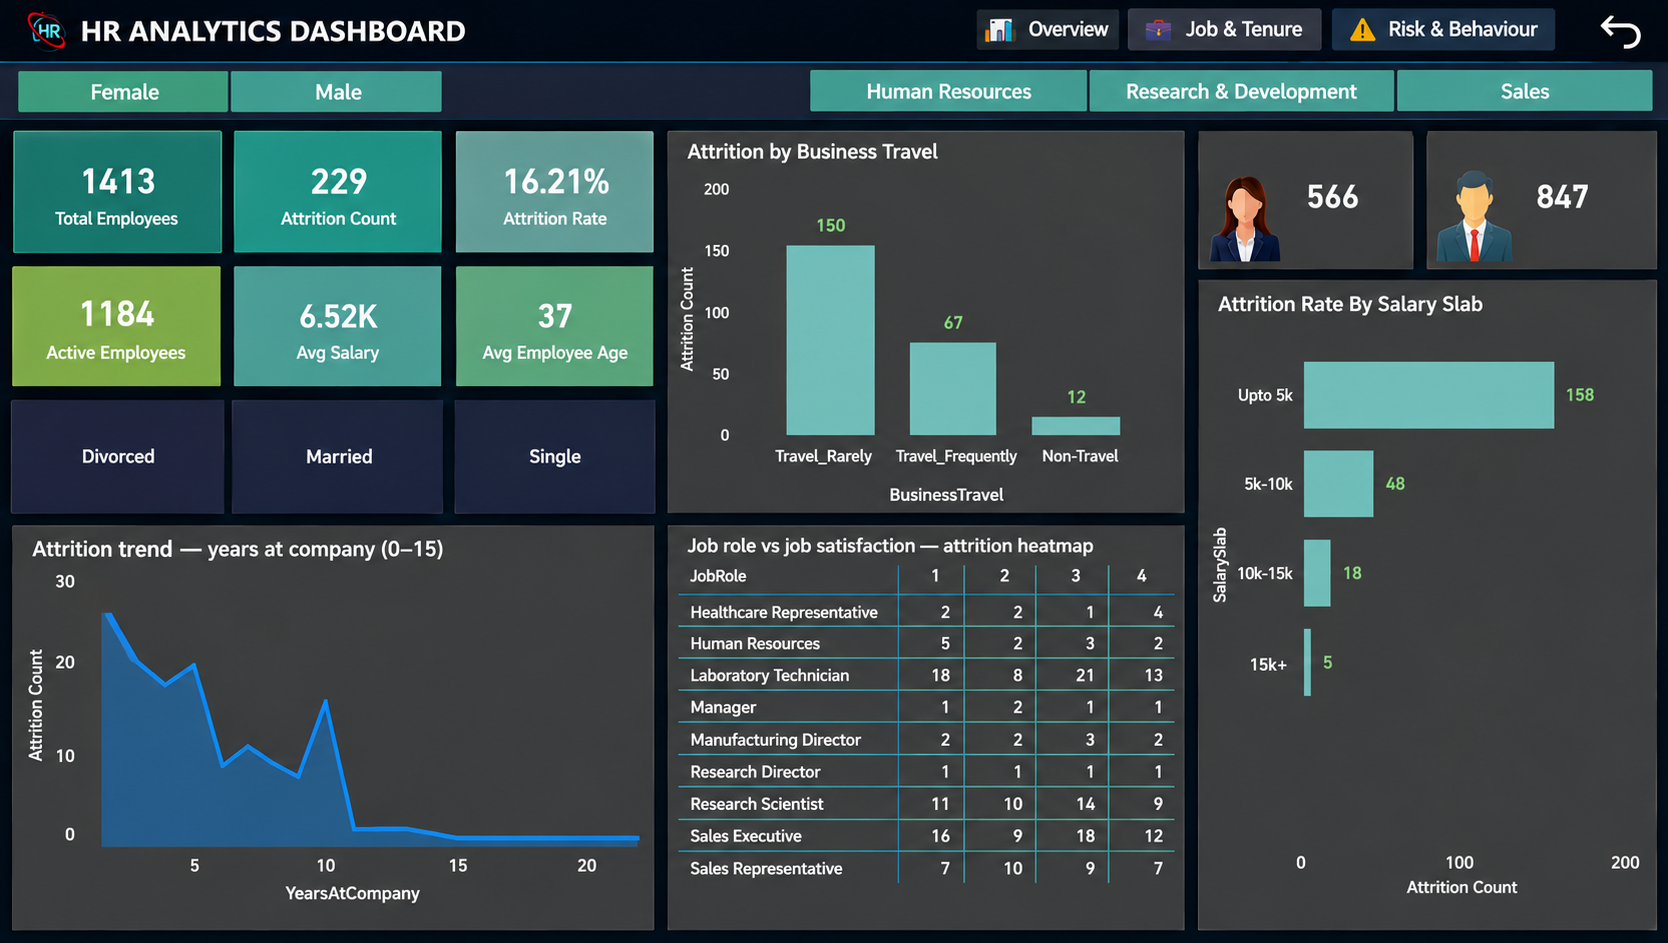

The dashboard page shown, as its layout file describes it:
{"tool":"powerbi","page":{"name":"Job and Tenure","canvas":[1500,850],"ordinal":1},"visuals":[{"type":"card","fields":{"Values":["HR_Analytics.Total Employees"]},"box":[10,114,182,114],"z":0},{"type":"card","fields":{"Values":["HR_Analytics.Attrition Count"]},"box":[208,114,184,114],"z":1000},{"type":"card","fields":{"Values":["HR_Analytics.Attrition Rate"]},"box":[408,116,184,112],"z":2000},{"type":"card","fields":{"Values":["HR_Analytics.Avg Employee Age"]},"box":[408,238,182,114],"z":3000},{"type":"card","fields":{"Values":["HR_Analytics.Avg Salary"]},"box":[210,238,180,114],"z":4000},{"type":"shape","box":[0,0,1500,57.1],"z":5000},{"type":"textbox","box":[77.6,5.9,367.3,46.8],"z":6000},{"type":"image","box":[0,0,105.4,76.1],"z":7000},{"type":"shape","box":[0,54,1500,52],"z":8000},{"type":"card","fields":{"Values":["HR_Analytics.Active Employees"]},"box":[10,238,182,114],"z":9000},{"type":"advancedSlicerVisual","fields":{"Values":["HR_Analytics.MaritalStatus"]},"box":[8,360,592,120],"z":10000},{"type":"card","fields":{"Values":["HR_Analytics.Male"]},"box":[1290,116,200,140],"z":11000},{"type":"card","fields":{"Values":["HR_Analytics.Female"]},"box":[1090,116,186,140],"z":12000},{"type":"image","box":[1276,182,102,70],"z":13000},{"type":"image","box":[1078,172,84,92],"z":14000},{"type":"slicer","fields":{"Values":["HR_Analytics.Gender"]},"box":[16.4,59.1,393.6,39.1],"z":15000},{"type":"actionButton","title":"Overview","box":[915,10,135,33.3],"z":16000},{"type":"actionButton","title":"Job and Tenure","box":[1043.3,10,186.7,33.3],"z":17000},{"type":"pivotTable","title":"Job role vs job satisfaction — attrition heatmap","fields":{"Rows":["HR_Analytics.JobRole"],"Columns":["HR_Analytics.JobSatisfaction"],"Values":["HR_Analytics.Attrition Count"]},"box":[608,490,470,344],"z":18000},{"type":"clusteredBarChart","title":"Attrition By Salary Slab","fields":{"Category":["HR_Analytics.SalarySlab"],"Y":["HR_Analytics.Attrition Count"]},"box":[1090,266,400,568],"z":19000},{"type":"lineChart","title":"Attrition trend — years at company (0–15)","fields":{"Category":["HR_Analytics.YearsAtCompany"],"Y":["HR_Analytics.Attrition Count"]},"box":[16,490,578,344],"z":20000},{"type":"clusteredColumnChart","title":"Attrition by Business Travel","fields":{"Category":["HR_Analytics.BusinessTravel"],"Y":["HR_Analytics.Attrition Count"]},"box":[608,114,470,364],"z":21000},{"type":"actionButton","box":[1436.7,0,60,53.3],"z":22000},{"type":"slicer","fields":{"Values":["HR_Analytics.Department"]},"box":[702,54,798,50],"z":23000},{"type":"actionButton","title":"Overview","box":[1225,10,201.2,33.8],"z":24000}]}

Visuals, with their boxes in screenshot pixels (x1, y1, x2, y2), scaled from the page's 1500x850 canvas onto the 1668x943 screenshot:
card - HR_Analytics.Total Employees: pyautogui.locateOnScreen(11, 126, 214, 253)
card - HR_Analytics.Attrition Count: pyautogui.locateOnScreen(231, 126, 436, 253)
card - HR_Analytics.Attrition Rate: pyautogui.locateOnScreen(454, 129, 658, 253)
card - HR_Analytics.Avg Employee Age: pyautogui.locateOnScreen(454, 264, 656, 391)
card - HR_Analytics.Avg Salary: pyautogui.locateOnScreen(234, 264, 434, 391)
shape: pyautogui.locateOnScreen(0, 0, 1667, 63)
textbox: pyautogui.locateOnScreen(86, 7, 495, 58)
image: pyautogui.locateOnScreen(0, 0, 117, 84)
shape: pyautogui.locateOnScreen(0, 60, 1667, 118)
card - HR_Analytics.Active Employees: pyautogui.locateOnScreen(11, 264, 214, 391)
advancedSlicerVisual - HR_Analytics.MaritalStatus: pyautogui.locateOnScreen(9, 399, 667, 533)
card - HR_Analytics.Male: pyautogui.locateOnScreen(1434, 129, 1657, 284)
card - HR_Analytics.Female: pyautogui.locateOnScreen(1212, 129, 1419, 284)
image: pyautogui.locateOnScreen(1419, 202, 1532, 280)
image: pyautogui.locateOnScreen(1199, 191, 1292, 293)
slicer - HR_Analytics.Gender: pyautogui.locateOnScreen(18, 66, 456, 109)
"Overview" actionButton: pyautogui.locateOnScreen(1017, 11, 1168, 48)
"Job and Tenure" actionButton: pyautogui.locateOnScreen(1160, 11, 1368, 48)
"Job role vs job satisfaction — attrition heatmap" pivotTable: pyautogui.locateOnScreen(676, 544, 1199, 925)
"Attrition By Salary Slab" clusteredBarChart: pyautogui.locateOnScreen(1212, 295, 1657, 925)
"Attrition trend — years at company (0–15)" lineChart: pyautogui.locateOnScreen(18, 544, 661, 925)
"Attrition by Business Travel" clusteredColumnChart: pyautogui.locateOnScreen(676, 126, 1199, 530)
actionButton: pyautogui.locateOnScreen(1598, 0, 1664, 59)
slicer - HR_Analytics.Department: pyautogui.locateOnScreen(781, 60, 1667, 115)
"Overview" actionButton: pyautogui.locateOnScreen(1362, 11, 1586, 49)
